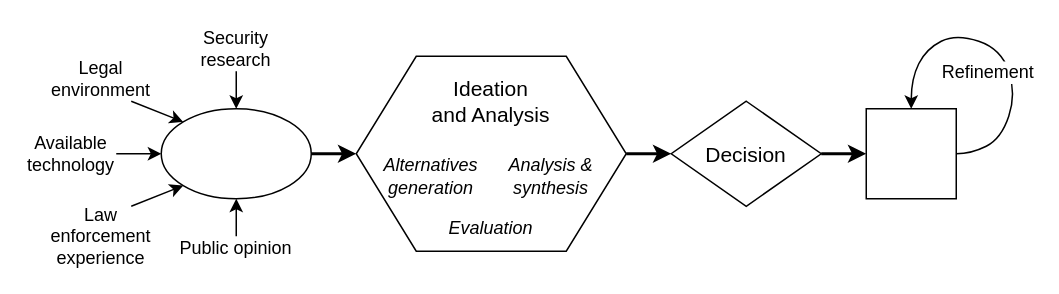
Some shapes in this 1059 by 294 pixel diagram are drawn without their labels. The centre of each missing label's shape, as x and y in pixels:
"Action" goes at [910,153].
"Problem Definition" goes at [235,153].
